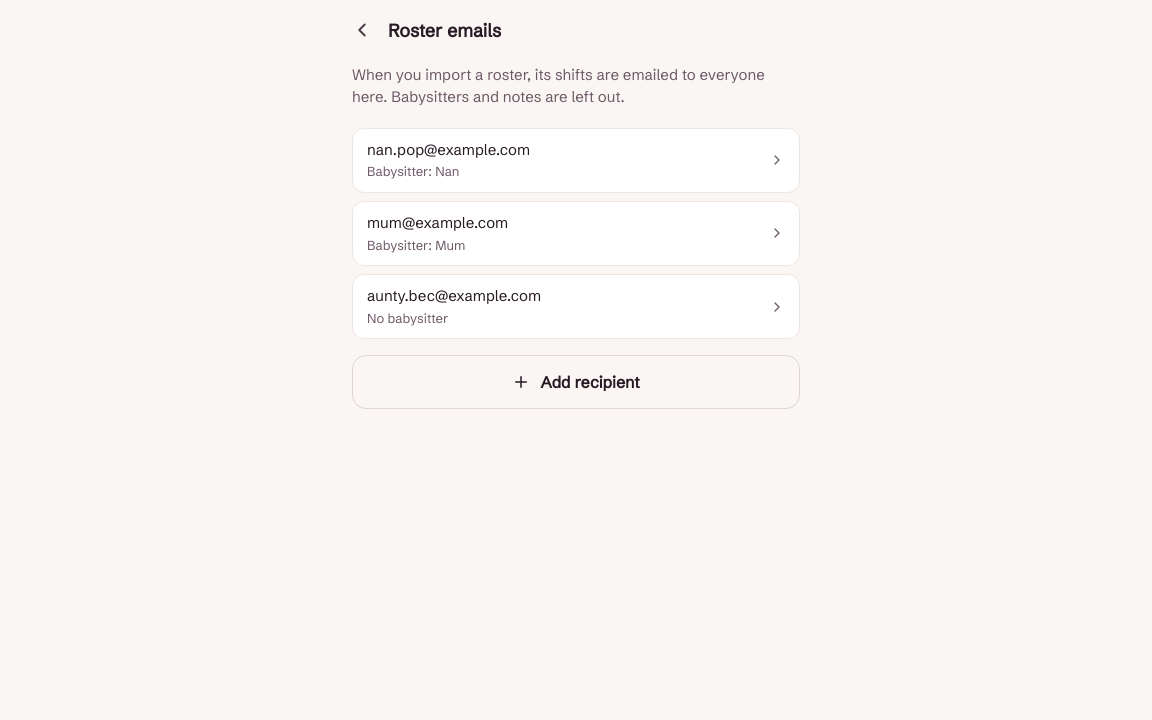
Scenario: Roster emails screen › shows its message for an invalid address without a request
Expected: the heading "Roster emails" is shown, [388,16,501,44]
Click the button "Add recipient" at (576, 382), box [352,355,800,409]
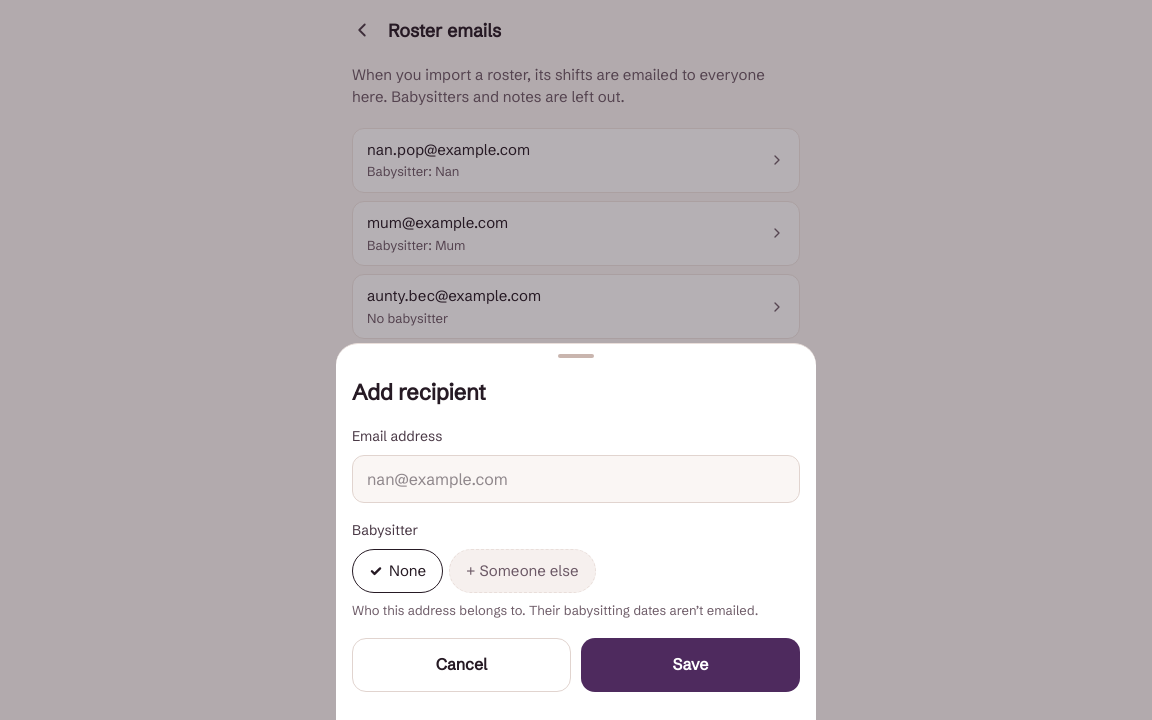
Expected: the dialog is shown, [336,343,816,719]
Type "nan@example" into the field labelled "Email address" at (576, 479), box [352,455,800,503]
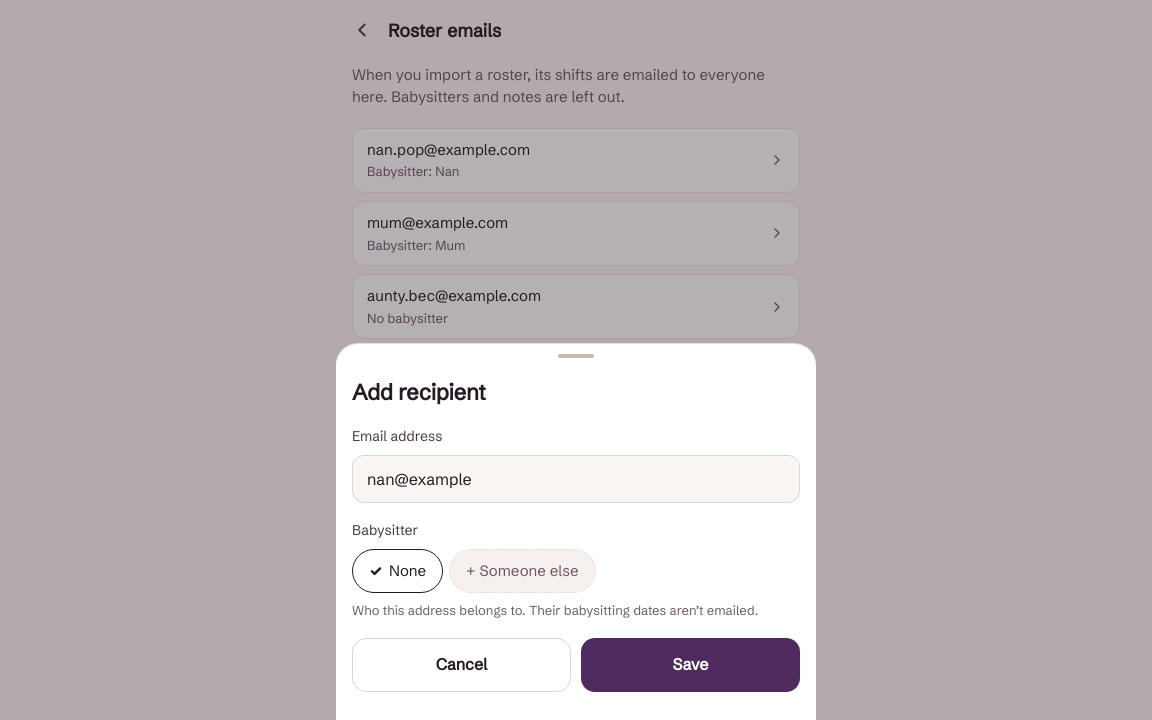
Click the button "Save" at (690, 665), box [581,638,800,692]
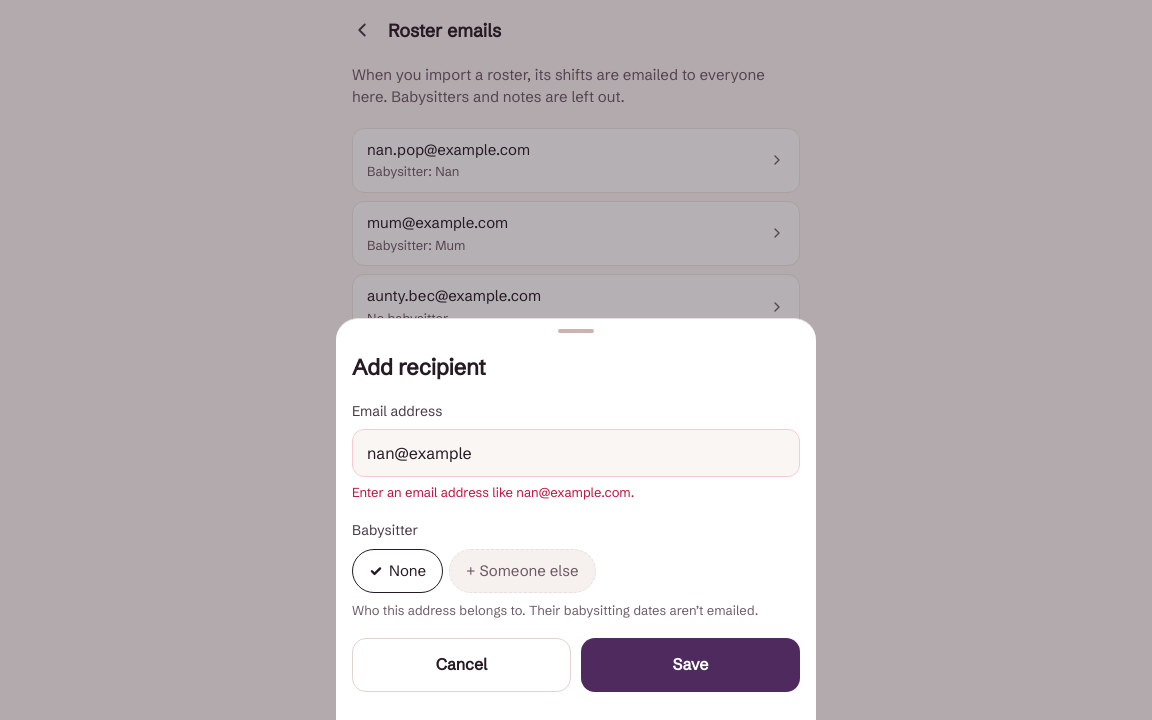
Expected: the text "Enter an email address like nan@example.com." is shown, [352,484,634,500]
